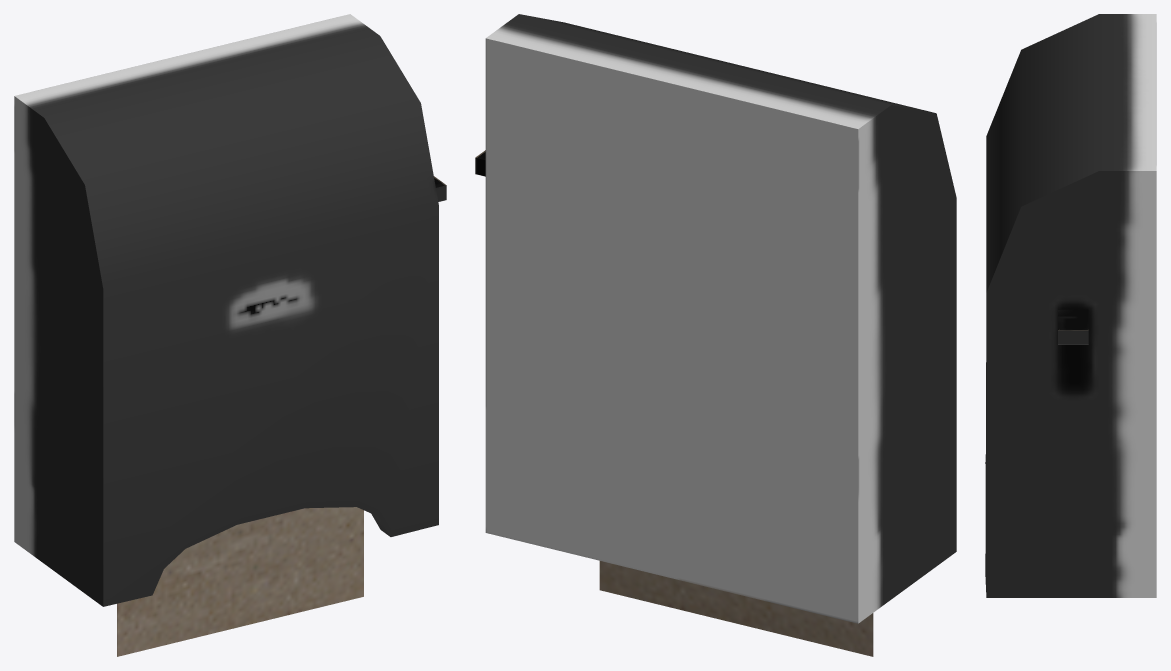
Rendered from PaperDispenser.glb.
3 views of the same model, side by side, from view 1: azimuth 30°, elevation 25°; view 2: azimuth 150°, elevation 25°; view 3: azimuth 270°, elevation 25° (orthographic). The views are drawn at different scales.
Parts seen in each view (by area): view 1: Paper_dispenser; view 2: Paper_dispenser; view 3: Paper_dispenser.
Boxes of the visible parts, left/top/right/bottom form: Paper_dispenser: left=14, top=14, right=446, bottom=656; Paper_dispenser: left=475, top=14, right=956, bottom=656; Paper_dispenser: left=985, top=14, right=1156, bottom=597.
Size of the model in its own units: 0.577 by 0.7662 by 0.2345.
Materials: 1 (1 with a texture image).
